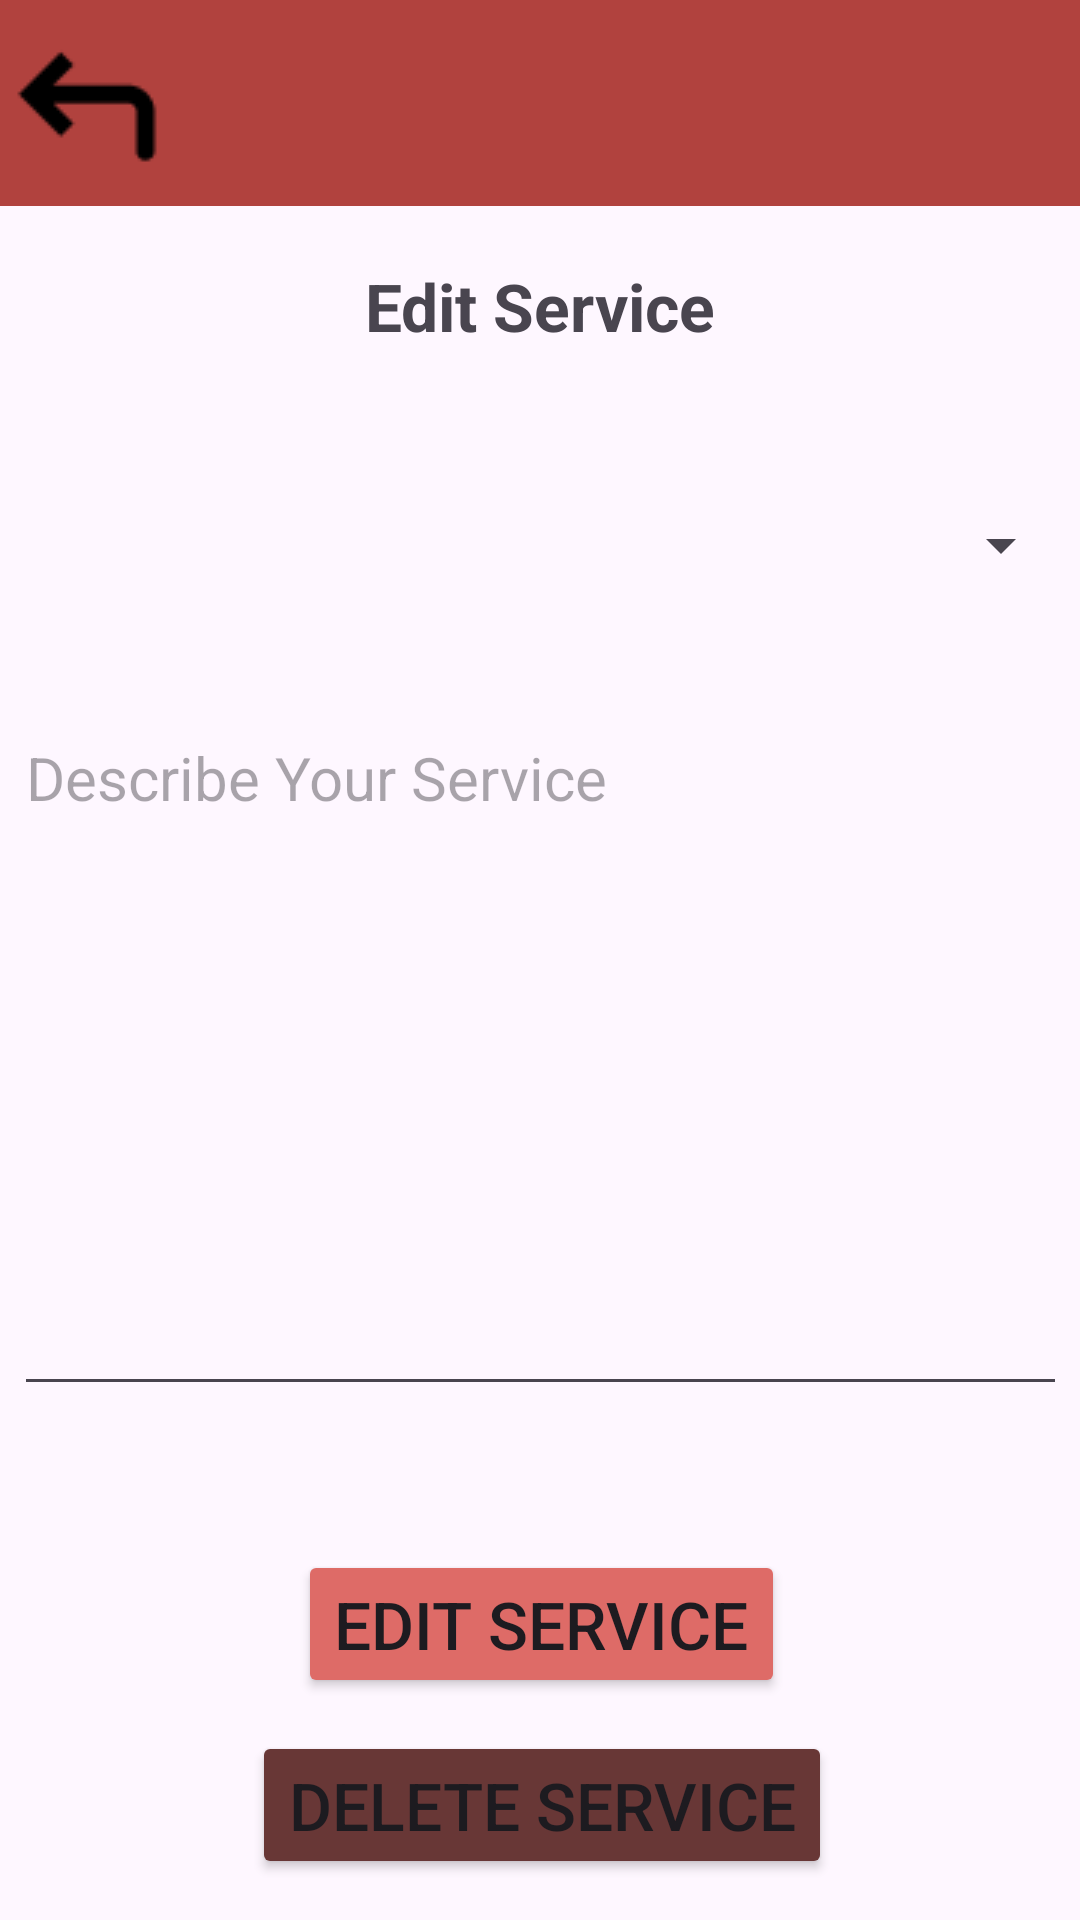

Icon click points for this 1080*1920 phone screenshot, format (x,y):
back: (87,107)
